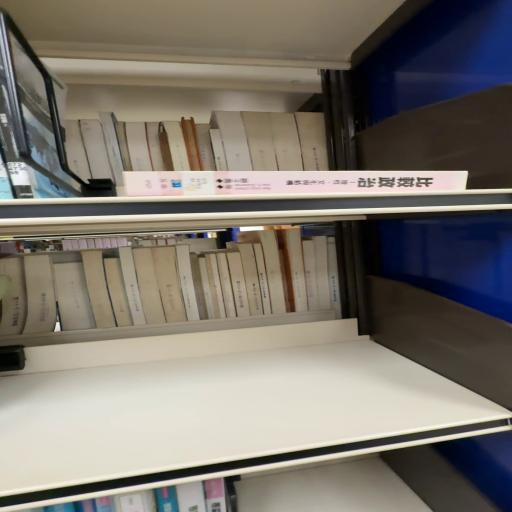backward: (151, 246, 188, 324), (55, 262, 96, 332), (82, 251, 117, 329), (133, 248, 167, 325), (120, 247, 149, 326), (105, 259, 134, 328)
flat: (124, 172, 468, 198)
